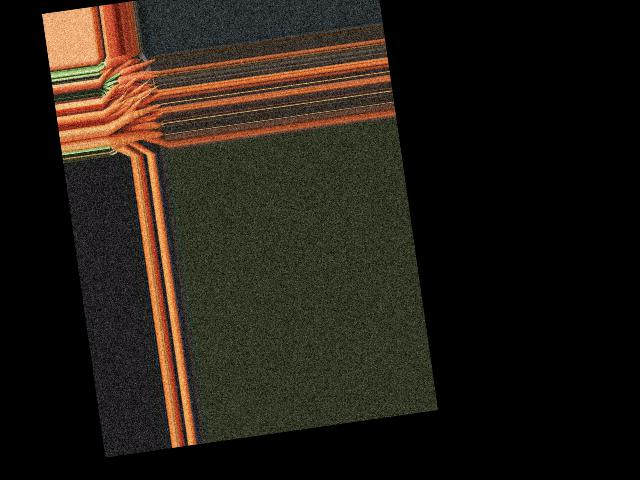carrot: (102, 52, 137, 67)
